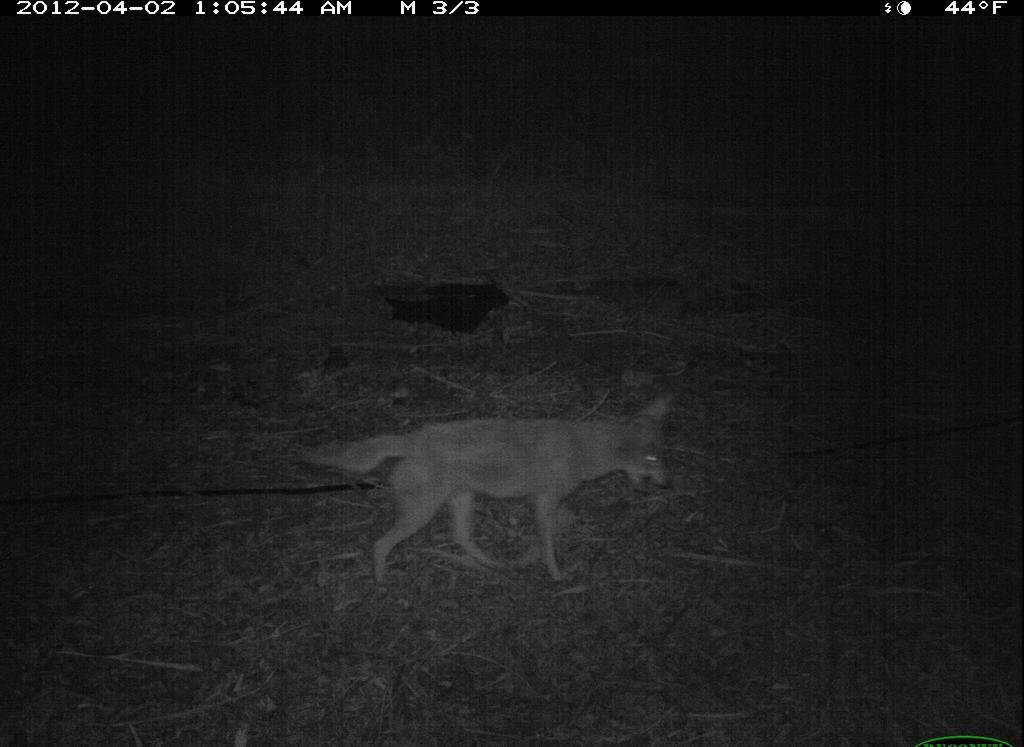coyote: (283, 388, 689, 594)
